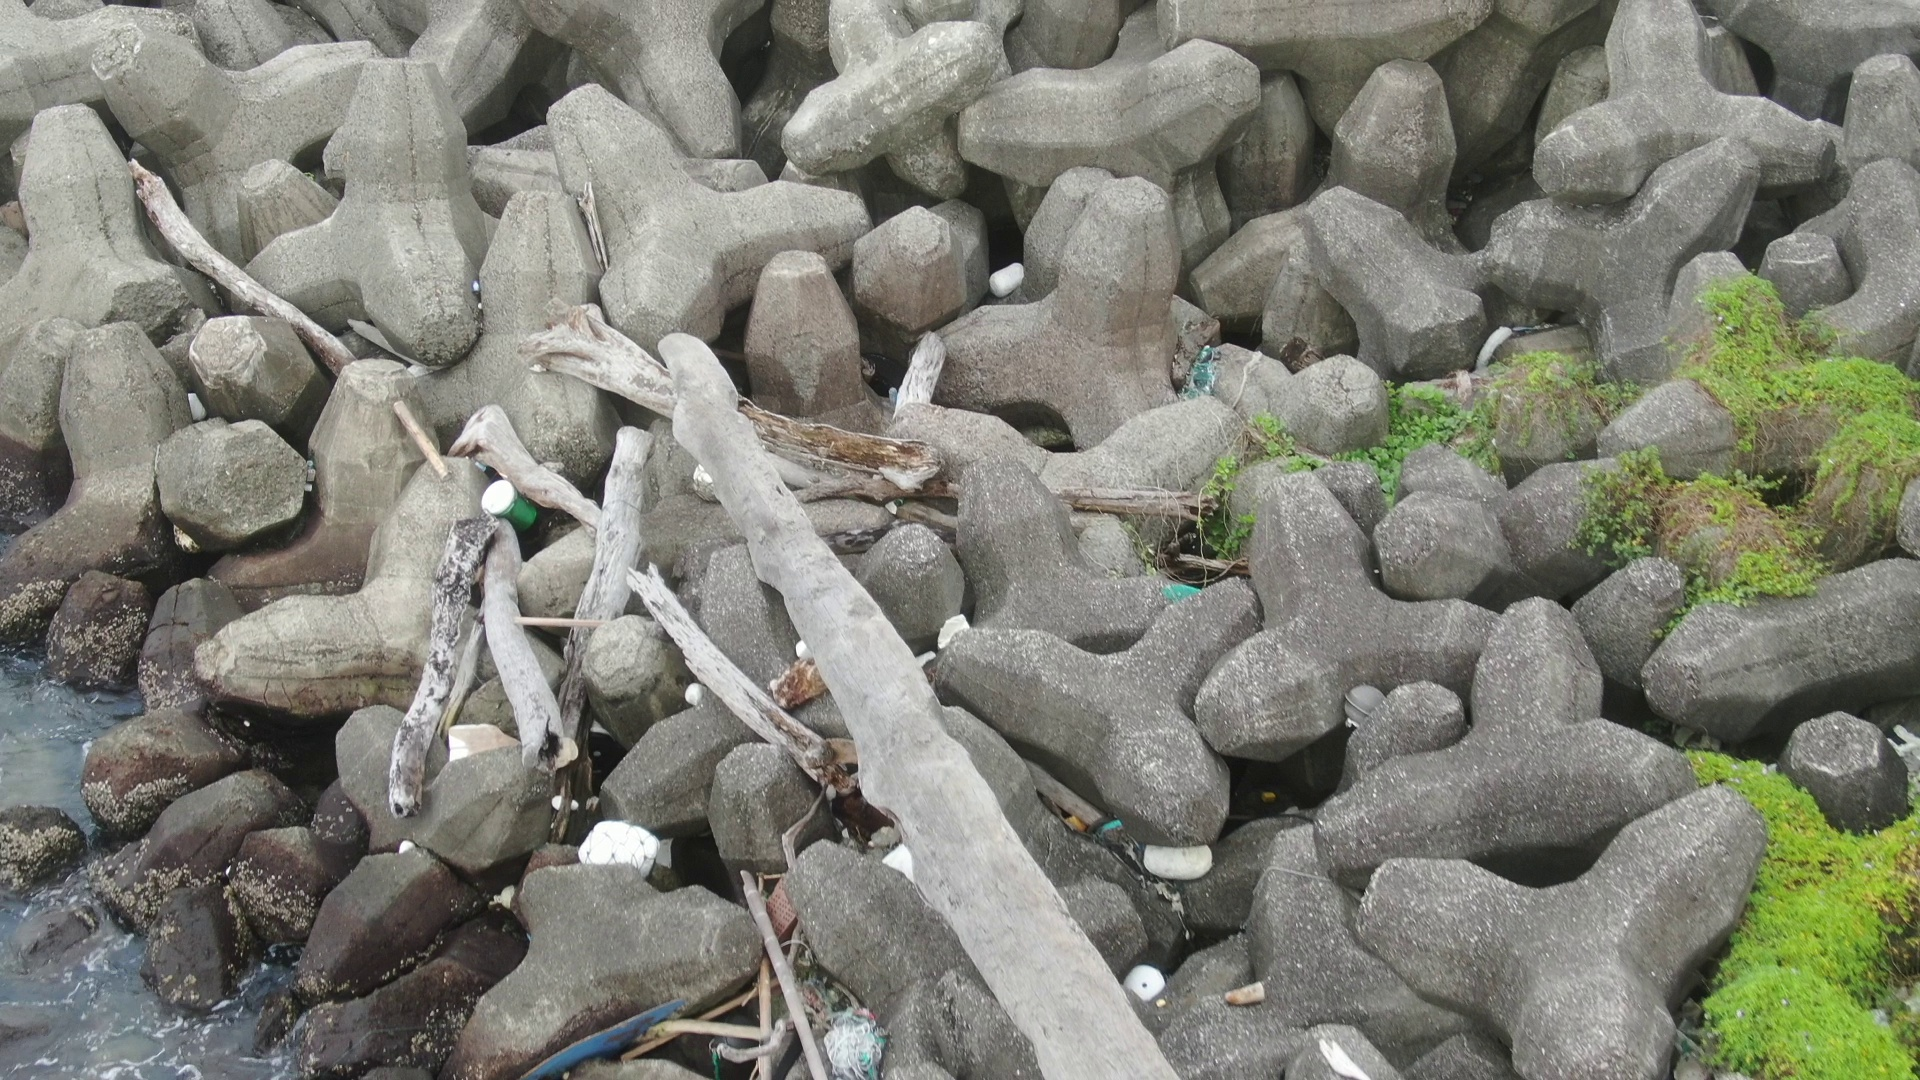garbage: (753, 910, 895, 1080), (504, 982, 713, 1080), (562, 808, 686, 886), (1453, 311, 1578, 377), (1131, 836, 1222, 887), (477, 473, 554, 527), (986, 252, 1033, 306), (1341, 676, 1385, 729)
